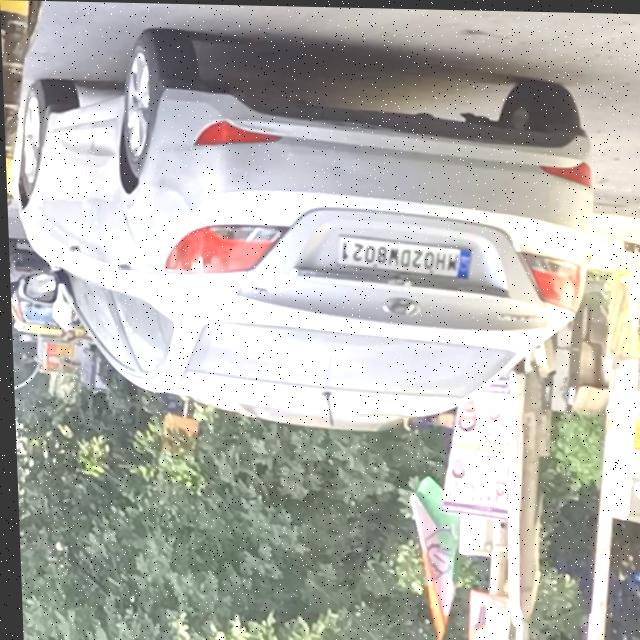plate: (328, 232, 475, 281)
